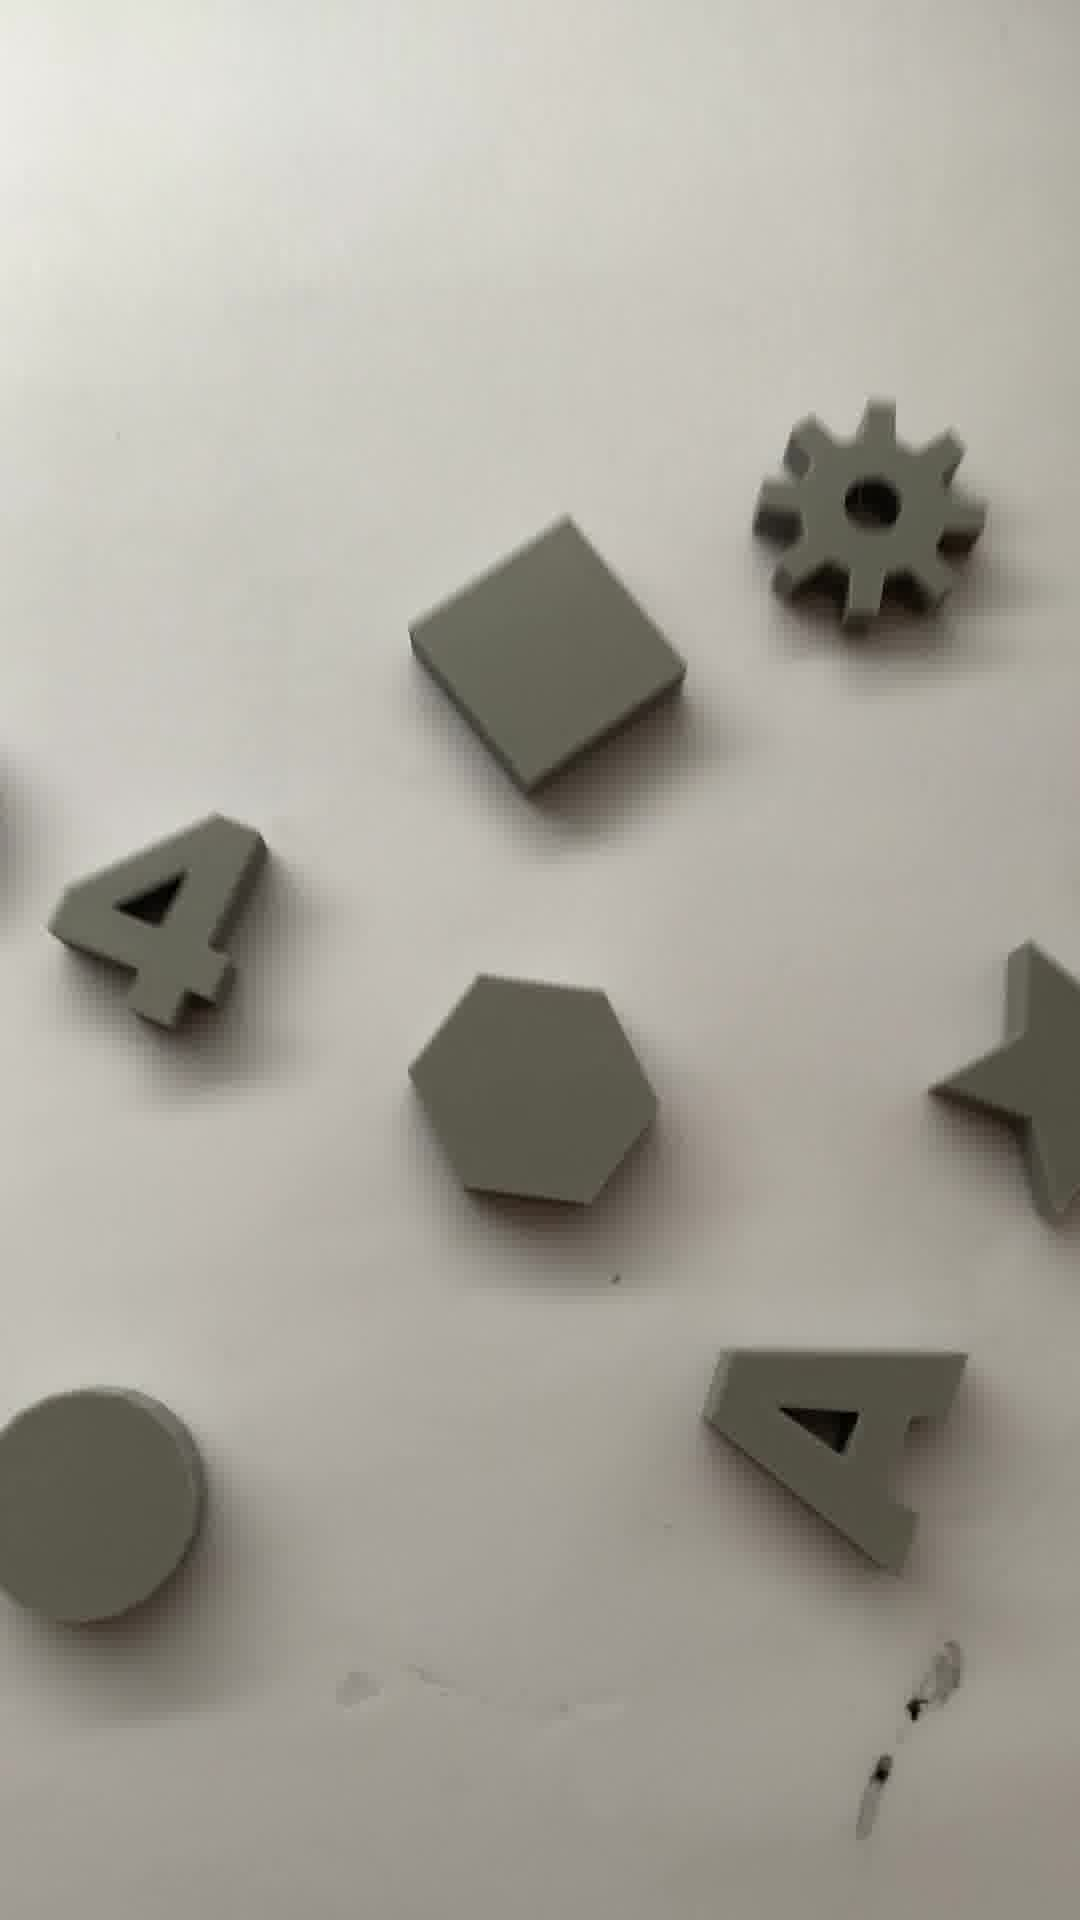Gray A-letter: (702, 1308, 964, 1582)
Gray circle: (1, 1381, 200, 1640)
Gray four: (44, 804, 276, 1054)
Gray gear: (756, 422, 998, 647)
Gray hexagon: (401, 972, 683, 1213)
Gray square: (415, 524, 696, 804)
Gray star: (942, 944, 1080, 1230)
